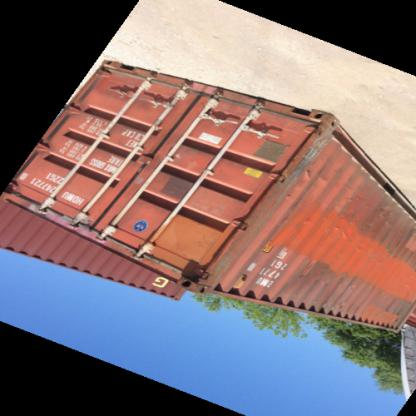Damage: (296, 139, 334, 187), (368, 202, 404, 238), (336, 193, 360, 246), (300, 262, 336, 292), (322, 300, 367, 320), (388, 297, 404, 323), (340, 280, 362, 298), (300, 214, 314, 230)
